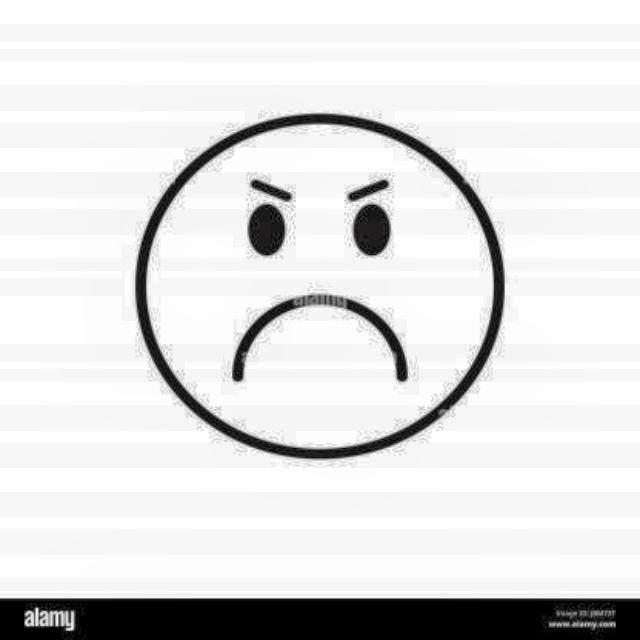angry: (114, 103, 523, 487)
